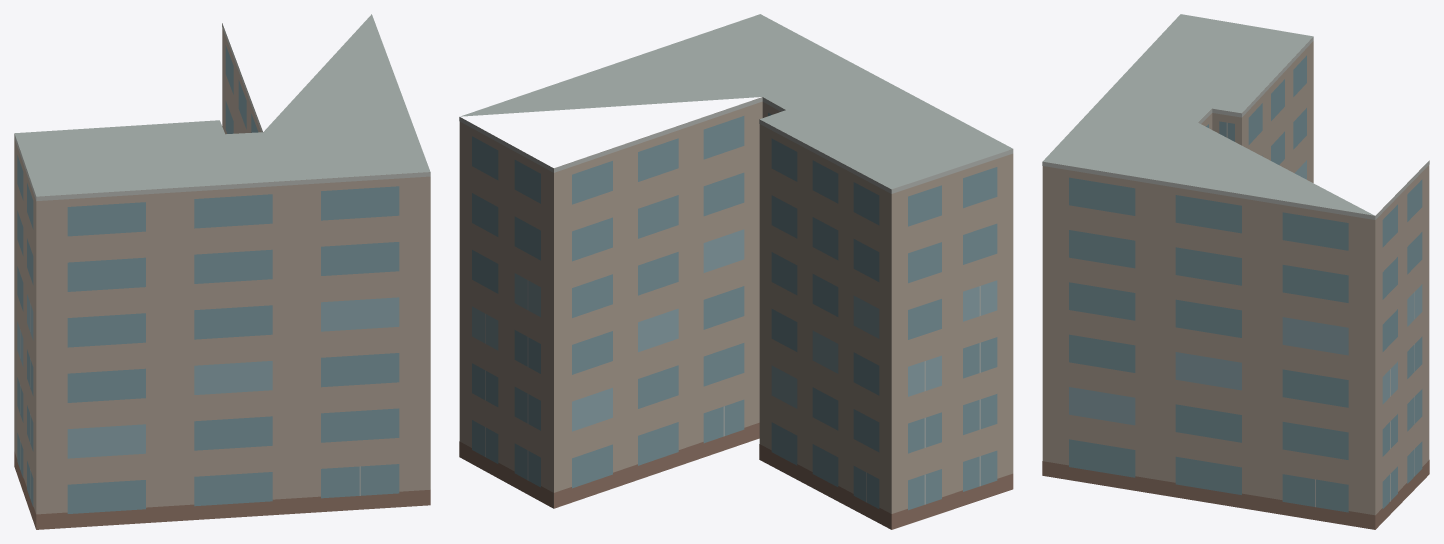
Rendered from survey-upis-32905036.glb.
The picture shows the model from 3 angles, left to right: view 1: azimuth 30°, elevation 25°; view 2: azimuth 150°, elevation 25°; view 3: azimuth 270°, elevation 25°; orthographic projection. The views are drawn at different scales.
Parts seen in each view (by area): view 1: survey-upis-32905036.tmp; view 2: survey-upis-32905036.tmp; view 3: survey-upis-32905036.tmp.
Boxes of the visible parts, x1,y1,x2,y2 form: survey-upis-32905036.tmp: (14,14,430,529); survey-upis-32905036.tmp: (459,14,1013,529); survey-upis-32905036.tmp: (1042,14,1429,529).
Size of the model in its own units: 24.82 by 18 by 20.11.
